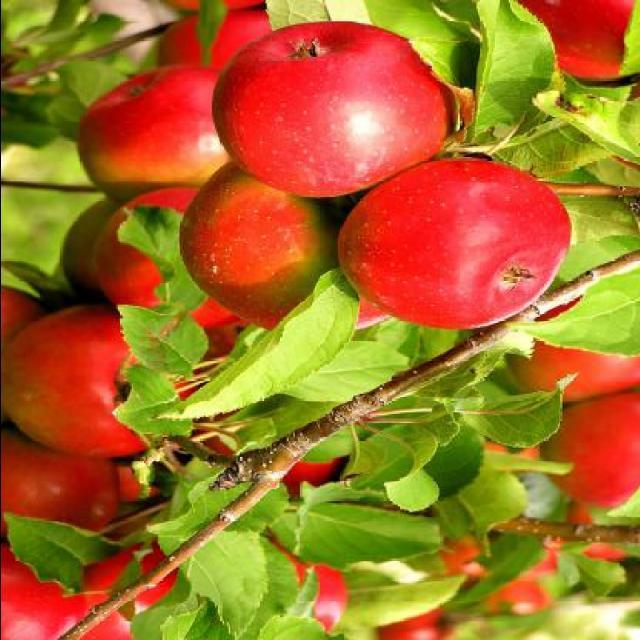Peach: (1, 0, 570, 640), (372, 296, 640, 640), (519, 0, 640, 78)
